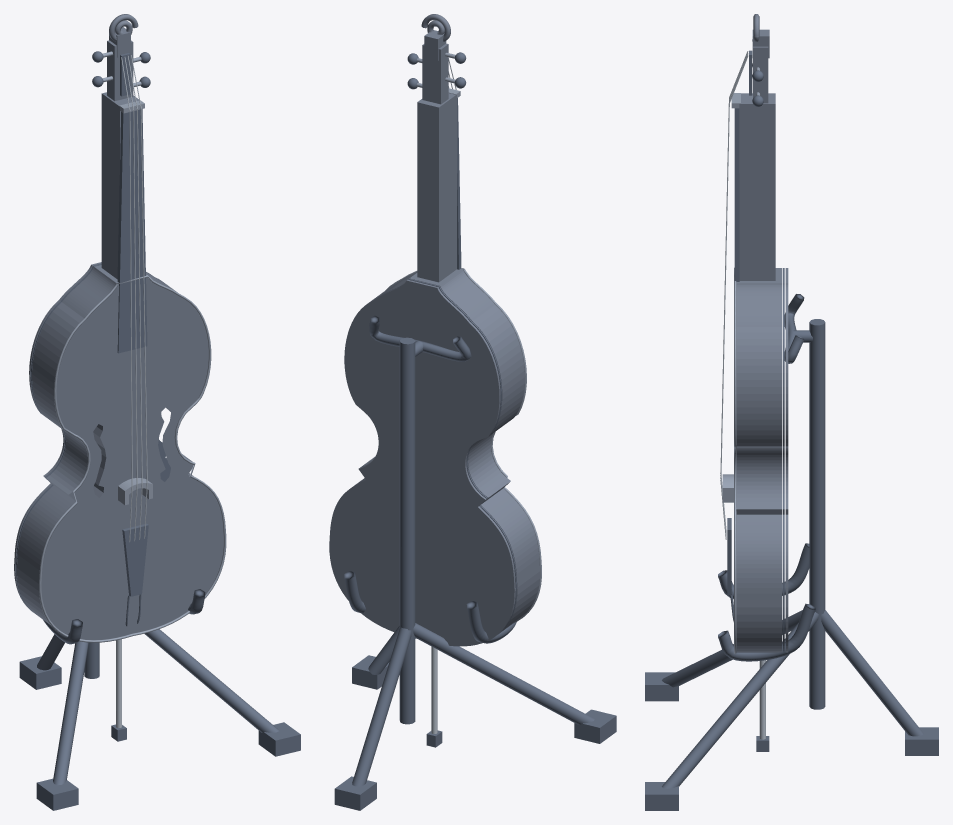
File: 大提琴＋支架.glb
3 views of the same model, side by side, from view 1: azimuth 30°, elevation 25°; view 2: azimuth 150°, elevation 25°; view 3: azimuth 270°, elevation 25° (orthographic).
Visible parts, largest first — view 1: cello-stand-frame, cello-stand-dark, cello-stand-accent, cello-stand-light; view 2: cello-stand-frame, cello-stand-dark, cello-stand-accent, cello-stand-light; view 3: cello-stand-frame, cello-stand-dark, cello-stand-accent, cello-stand-light.
Part boxes in pixels (x1,y1,x2,y2): cello-stand-frame: [14, 14, 223, 640]; cello-stand-dark: [16, 51, 300, 810]; cello-stand-accent: [39, 51, 226, 642]; cello-stand-light: [116, 55, 147, 727]; cello-stand-frame: [329, 14, 539, 646]; cello-stand-dark: [334, 52, 616, 810]; cello-stand-accent: [385, 52, 541, 622]; cello-stand-light: [431, 58, 456, 733]; cello-stand-frame: [736, 14, 788, 652]; cello-stand-dark: [645, 39, 938, 810]; cello-stand-accent: [722, 67, 760, 653]; cello-stand-light: [720, 51, 765, 739].
Size of the model in its own units: 0.546 by 1.53 by 0.554.
